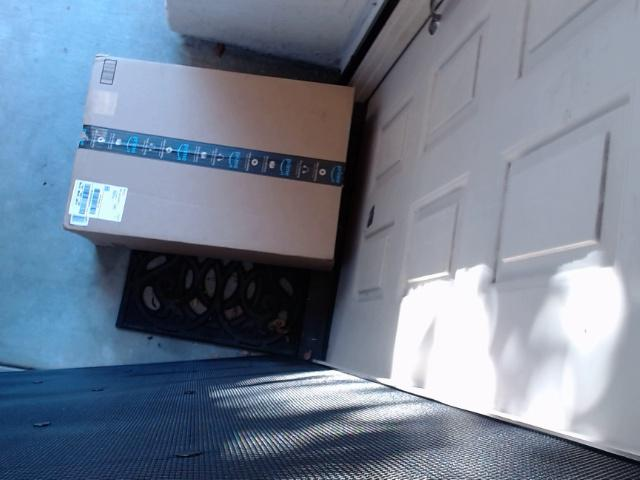box: (51, 30, 388, 278)
